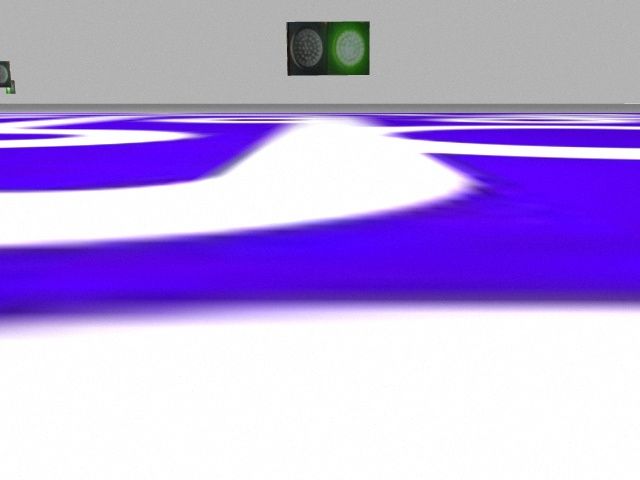green: (327, 21, 372, 73)
